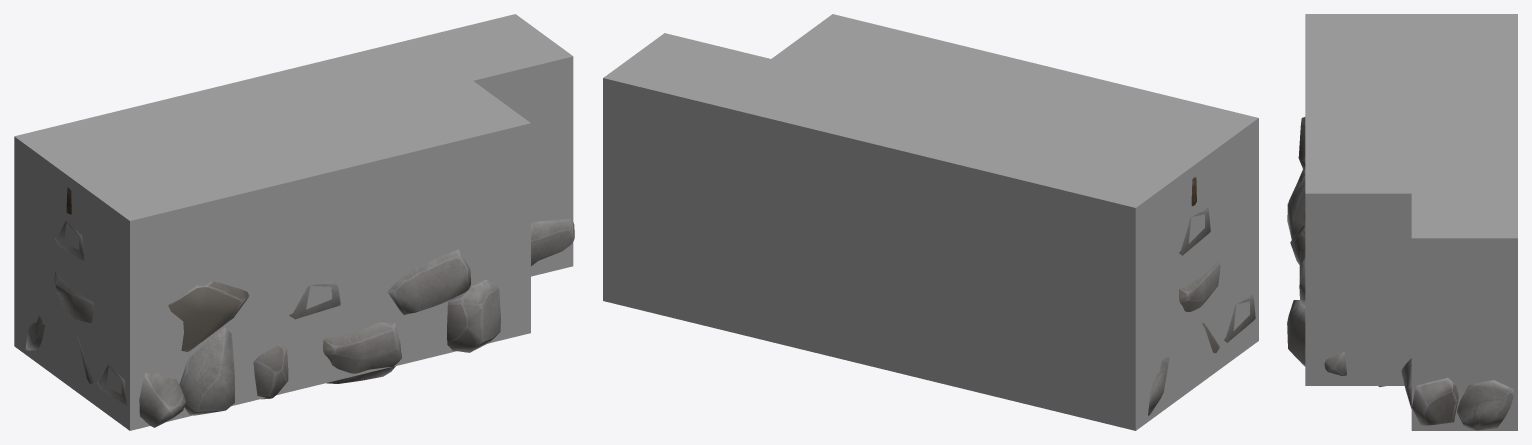
File: little_ruin_variant_3.fbx
3 renders of one model, left to right at view 1: azimuth 30°, elevation 25°; view 2: azimuth 150°, elevation 25°; view 3: azimuth 270°, elevation 25°, orthographic. The views are drawn at different scales.
Parts seen in each view (by area): view 1: standardCube6, ruin_4_brick1_low11; view 2: standardCube6, ruin_4_brick1_low11; view 3: standardCube6, ruin_4_brick1_low11.
Part boxes in pixels (x1,y1,x2,y2): standardCube6: (14,14,573,430); ruin_4_brick1_low11: (25,187,574,427); standardCube6: (603,14,1258,430); ruin_4_brick1_low11: (1148,177,1255,415); standardCube6: (1305,14,1517,430); ruin_4_brick1_low11: (1287,117,1513,430).
Bounding box in the file's own units: 513 × 209 × 217.
Materials: 2 (1 with a texture image).
